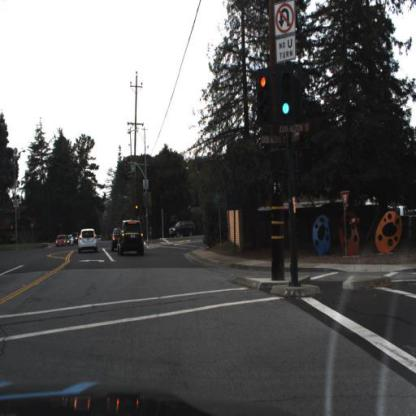car: (119, 220, 145, 256), (78, 228, 98, 255), (168, 220, 196, 238), (110, 229, 120, 252), (55, 233, 68, 249)
trafficLight-Green: (279, 72, 297, 125)
trafficLight-Red: (257, 72, 274, 123)
